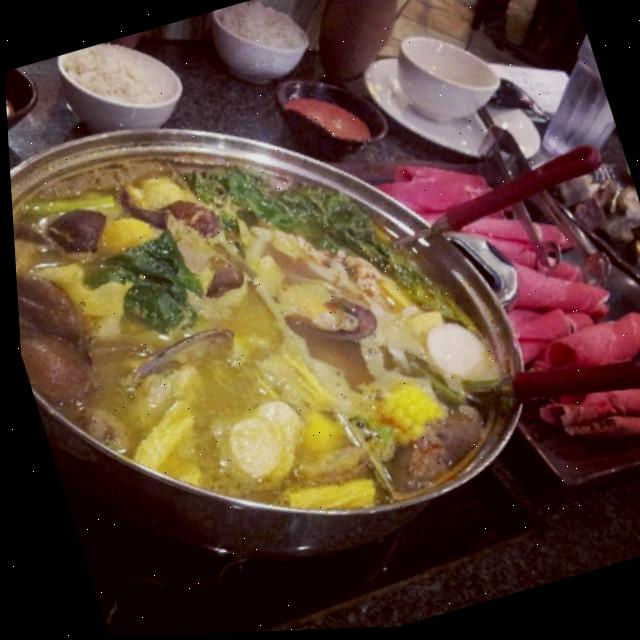汤锅炖物: (2, 26, 590, 634)
